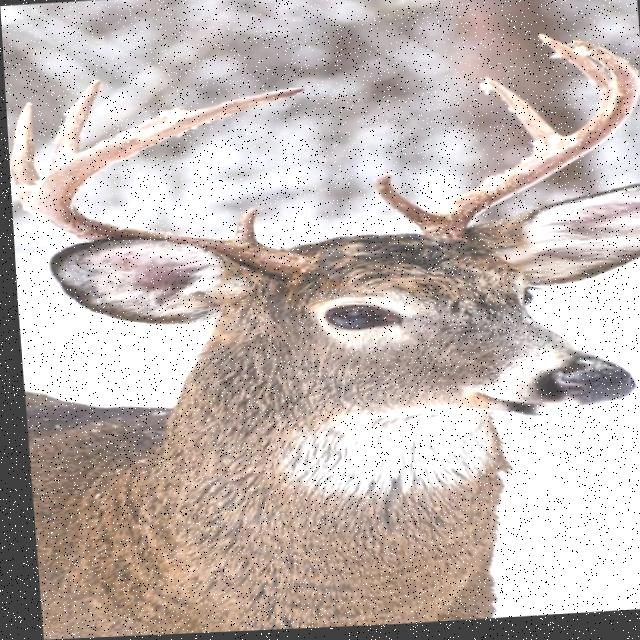L-F: (26, 89, 313, 287)
L-G1: (228, 208, 256, 245)
L-G2: (7, 100, 39, 209)
L-G3: (47, 79, 102, 171)
R-F: (418, 45, 640, 245)
R-G1: (372, 175, 434, 233)
R-G2: (483, 81, 560, 157)
R-G3: (536, 38, 612, 121)
